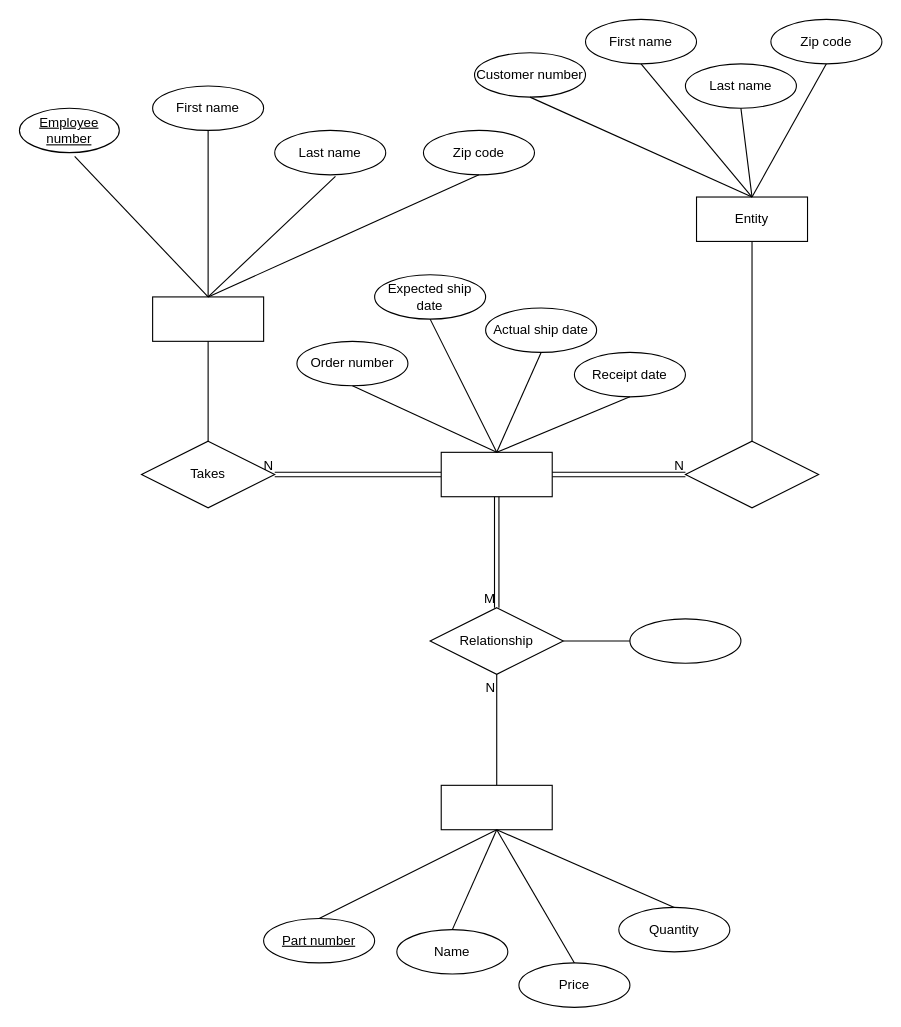
Image size: 901x1027. Some labels were removed from this diagram. The shapes that lost their labels are listed below. From the top down, each one's centre as x and y in pixels, then its label:
At point 208,318: "Employee".
At point 496,474: "Order".
At point 751,474: "Place".
At point 685,640: "Specified quantity".
At point 496,807: "Part".
